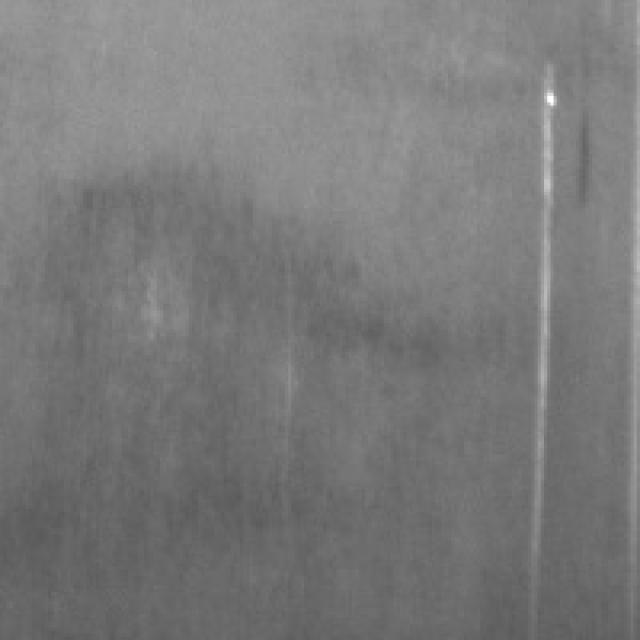scratches: (518, 48, 566, 557)
